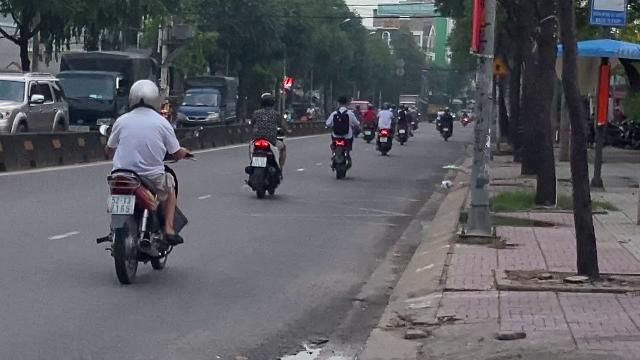helmet: (126, 78, 160, 110)
licenseplate: (108, 194, 134, 214)
motorcyclist: (96, 78, 190, 282)
